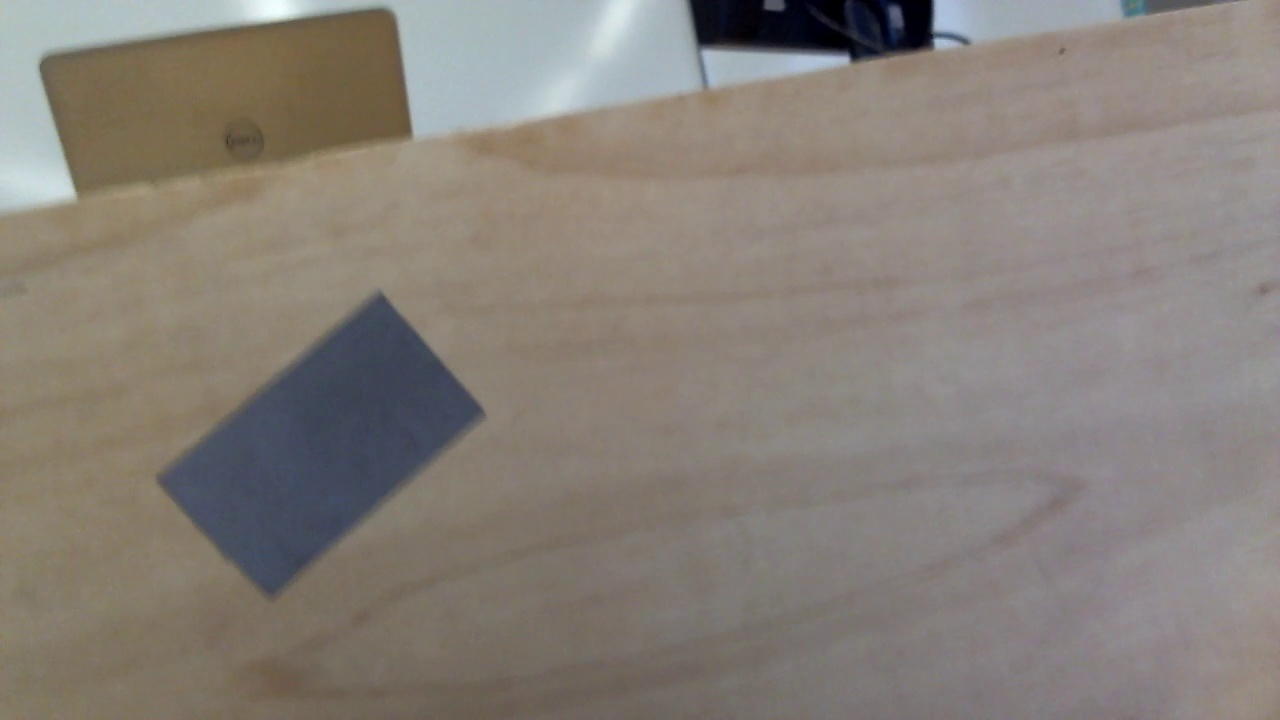Tape: (160, 293, 485, 599)
